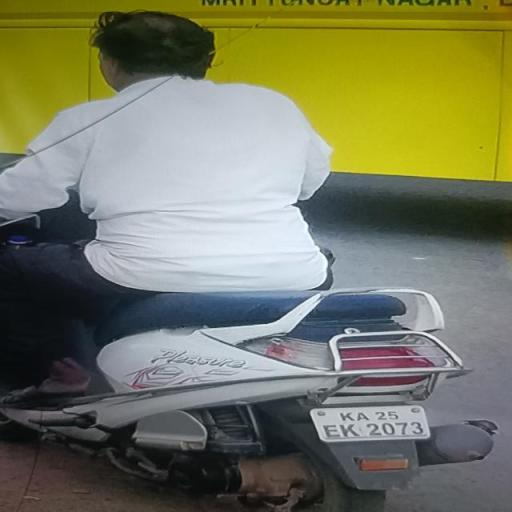bike: (2, 10, 494, 512)
numberplate: (314, 404, 432, 442)
withouthelmet: (98, 13, 210, 84)
